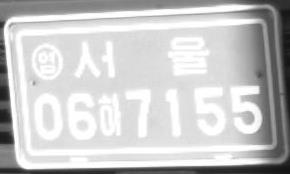0: (33, 92, 64, 140)
1: (159, 88, 189, 137)
5: (193, 86, 226, 136), (229, 84, 262, 134)
6: (65, 91, 97, 141)
7: (124, 88, 152, 138)
서울_D: (73, 35, 209, 79)
영: (31, 43, 63, 80)
하: (96, 92, 123, 136)
